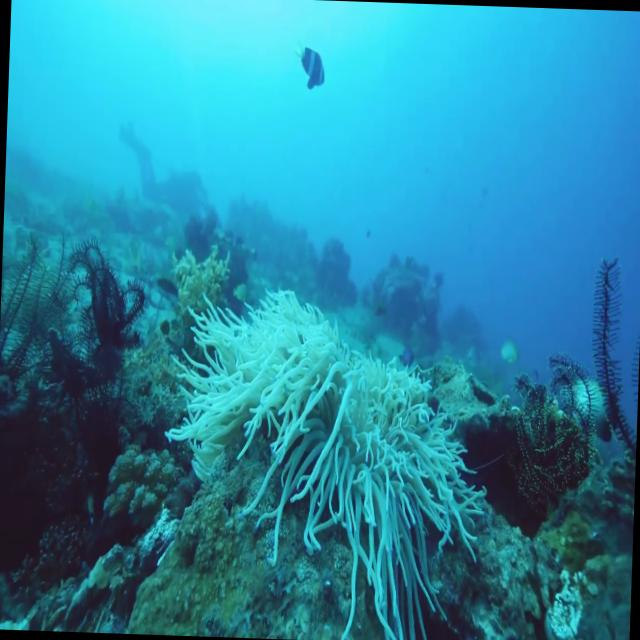fish: (297, 44, 330, 90)
